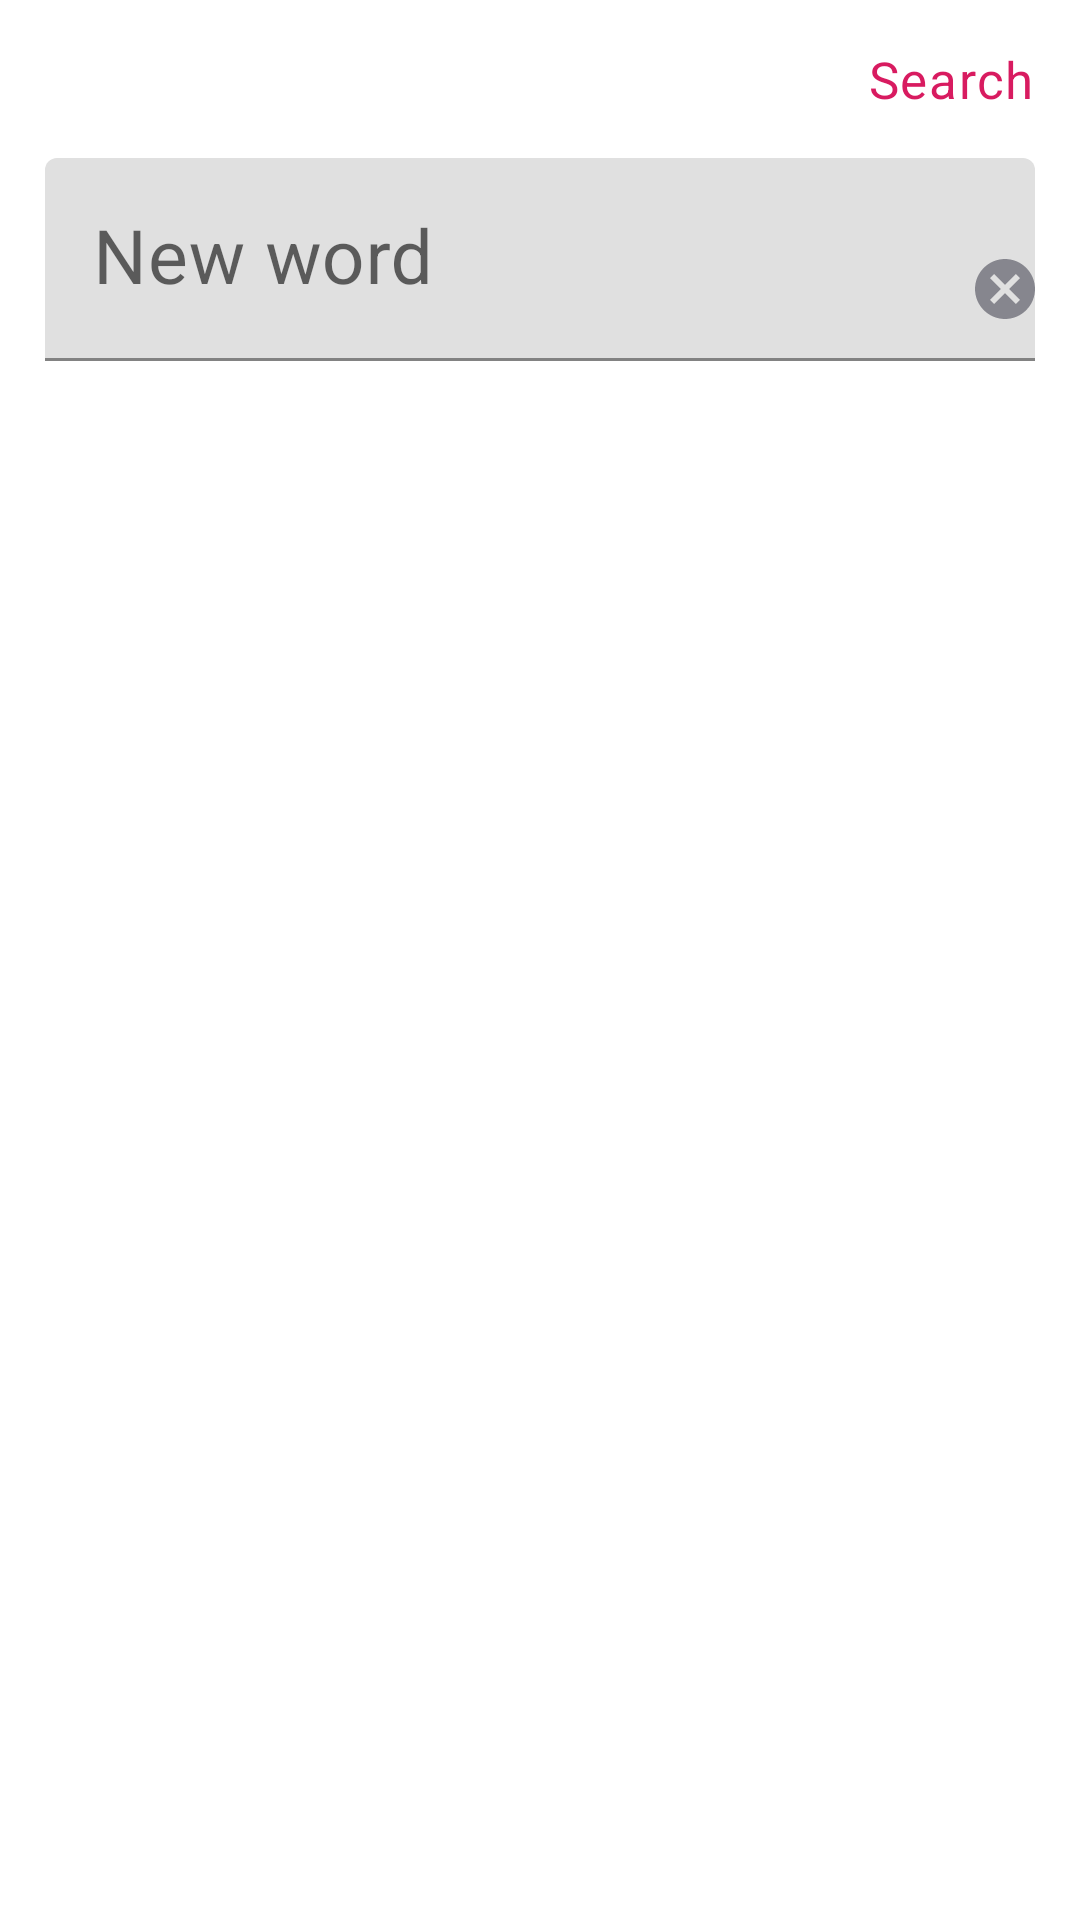

Screen size 1080x1920. Icon name, then its center in pixels as point (x, y):
delete text: point (1005, 289)
